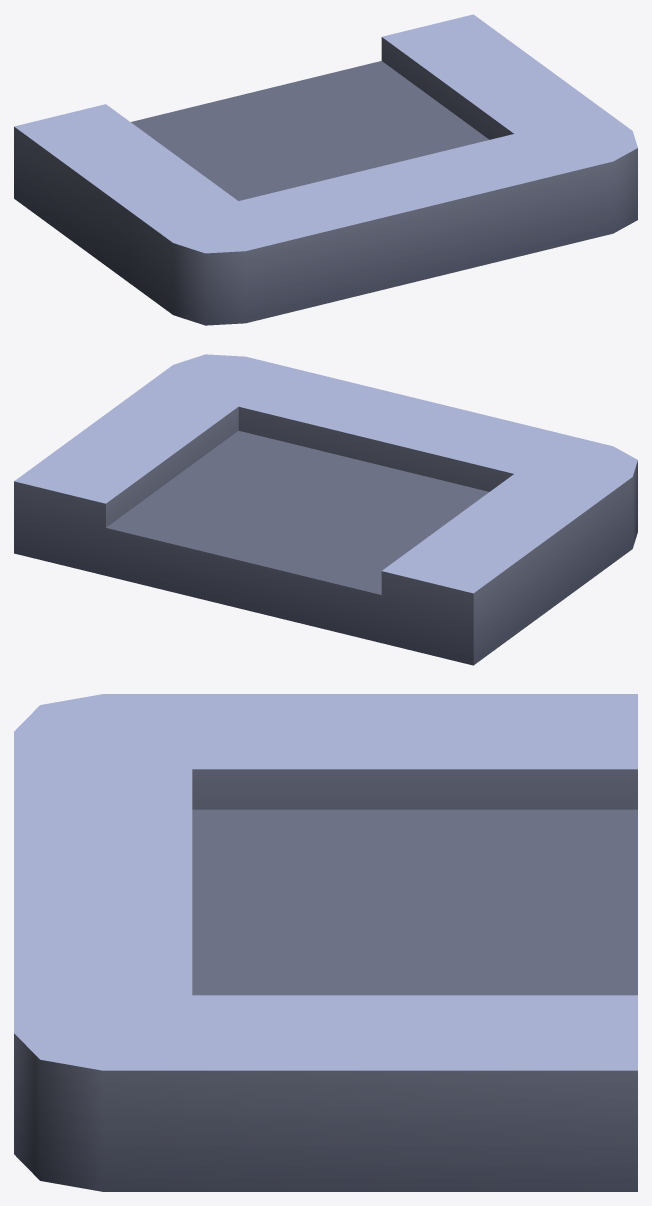
The model's file is kenney-space-station-balcony-floor.glb.
3 views of the same model, one above another, from view 1: azimuth 30°, elevation 25°; view 2: azimuth 150°, elevation 25°; view 3: azimuth 270°, elevation 25° (orthographic). The views are drawn at different scales.
Parts seen in each view (by area): view 1: balcony-floor; view 2: balcony-floor; view 3: balcony-floor.
Boxes of the visible parts, box(x1,y1,x2,y2) form: balcony-floor: box(14, 14, 637, 325); balcony-floor: box(14, 354, 637, 665); balcony-floor: box(14, 694, 637, 1191).
Size of the model in its own units: 1 by 0.15 by 0.7.
Materials: 1 (1 with a texture image).
